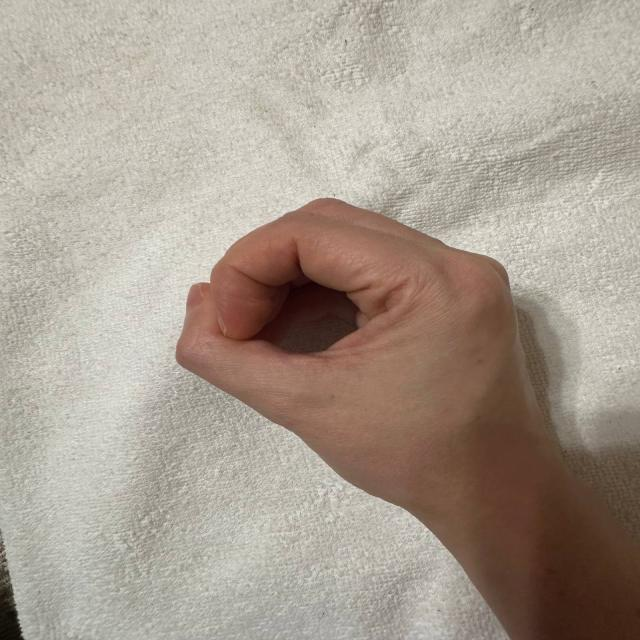e: (142, 190, 549, 462)
